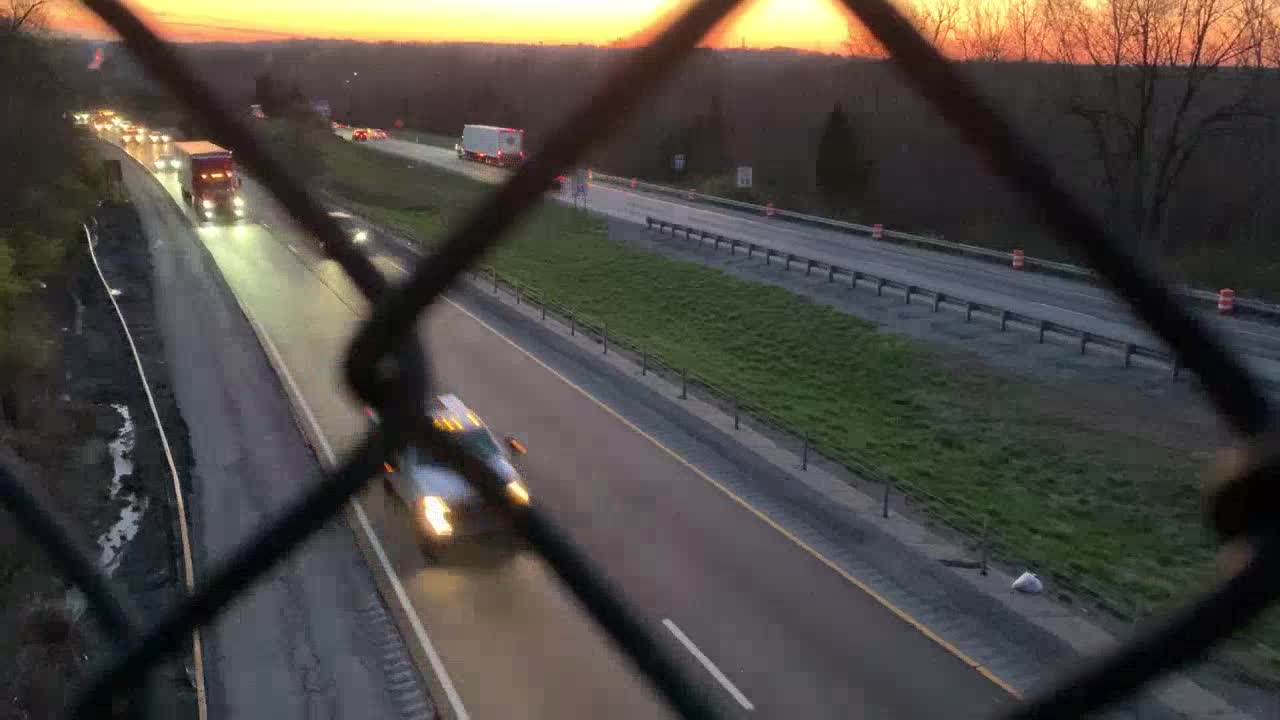heavyTruck: (170, 145, 248, 231), (456, 122, 534, 165)
lightTruck: (365, 389, 539, 568)
vehicle: (313, 210, 377, 257), (152, 151, 181, 174), (118, 128, 147, 147), (148, 125, 167, 145), (92, 117, 113, 135), (351, 130, 376, 143), (73, 109, 89, 123)
